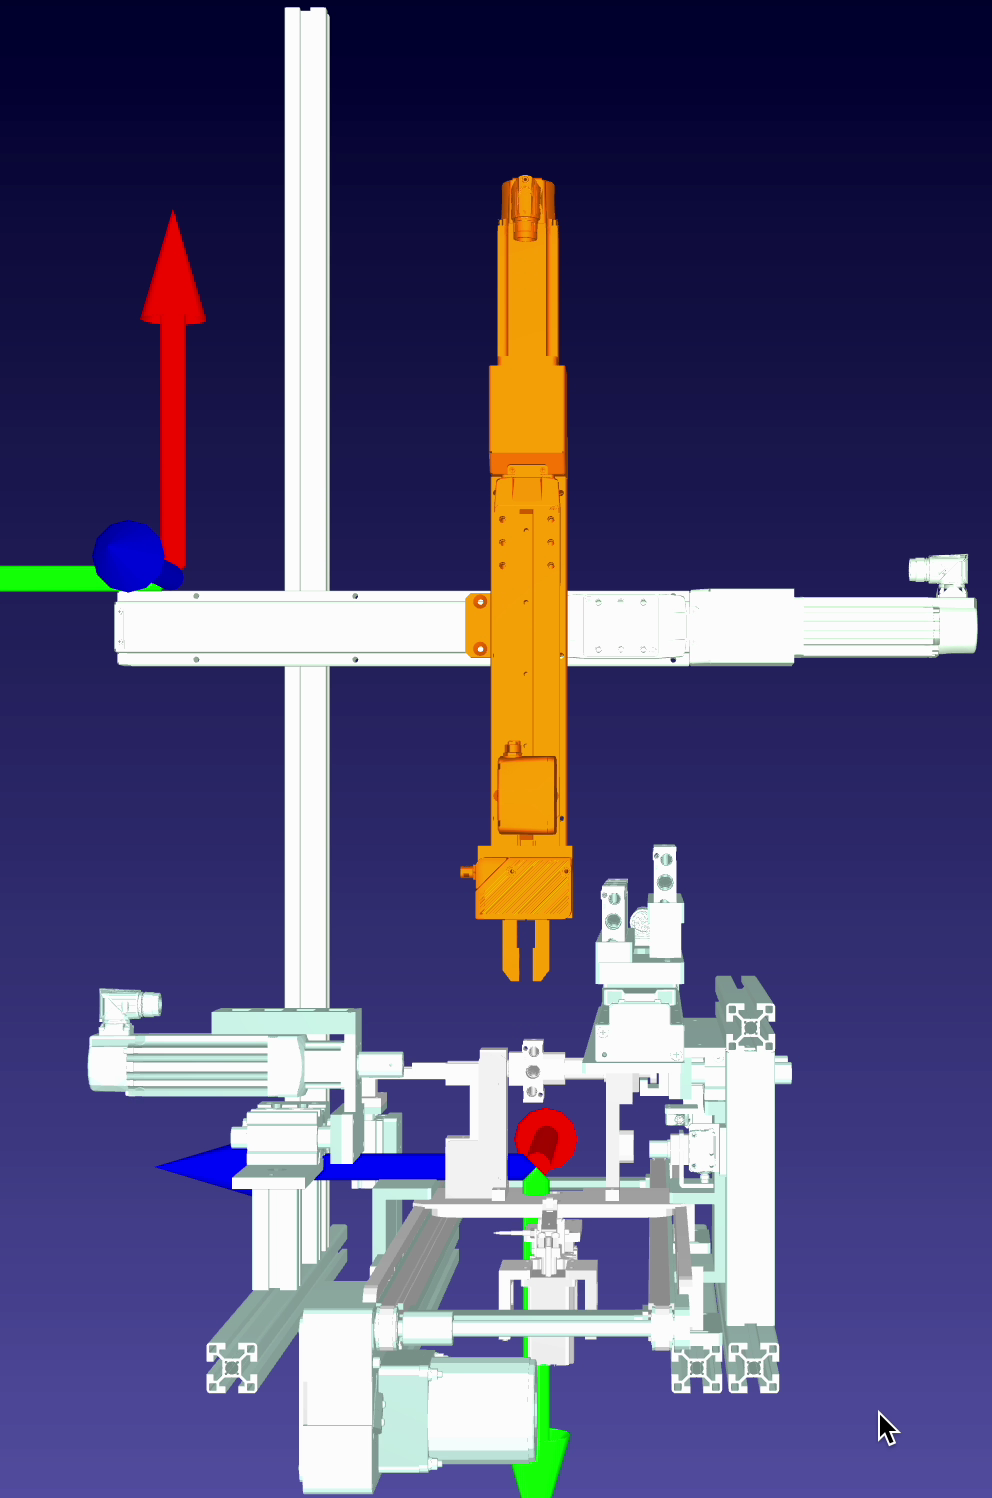Gripper: (457, 820, 583, 988)
